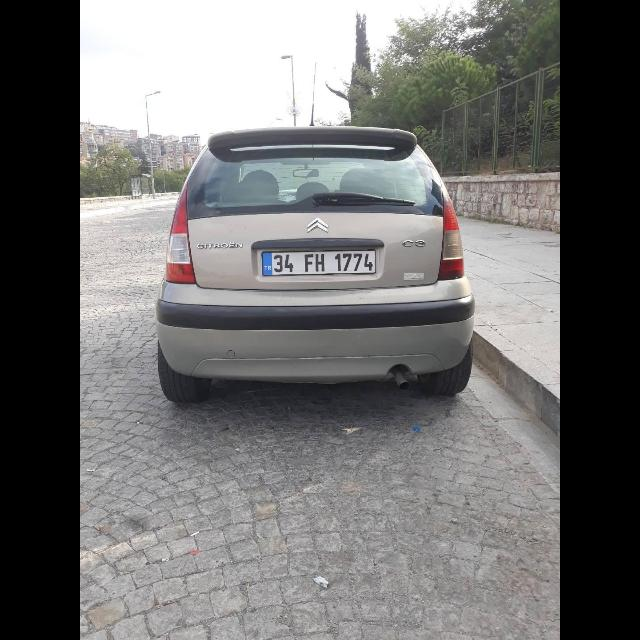Plaka: (262, 250, 376, 276)
